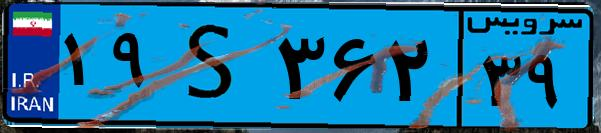1: (57, 26, 110, 100)
2: (385, 28, 445, 110)
3: (270, 28, 330, 110), (475, 38, 525, 113)
6: (330, 28, 385, 110)
9: (525, 38, 570, 115), (110, 28, 158, 98)
S: (158, 12, 270, 120)
